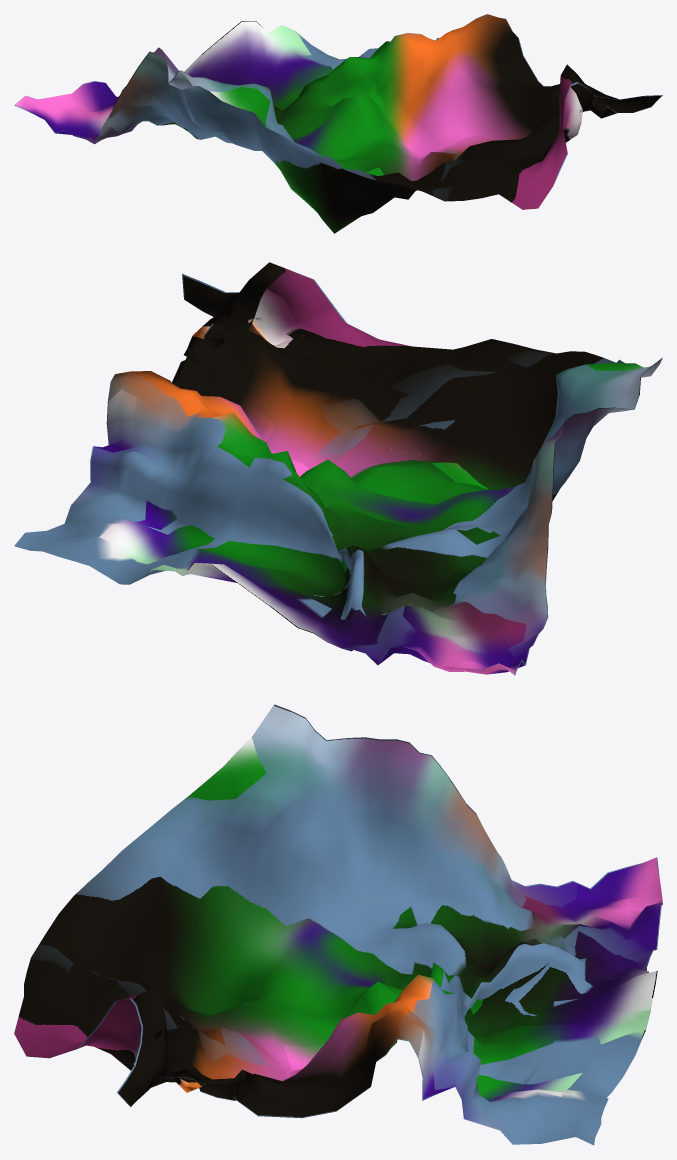
Rendered from paperTrash.fbx.
The picture shows the model from 3 angles, top to bottom: view 1: azimuth 30°, elevation 25°; view 2: azimuth 150°, elevation 25°; view 3: azimuth 270°, elevation 25°; orthographic projection. The views are drawn at different scales.
Parts seen in each view (by area): view 1: Plane; view 2: Plane; view 3: Plane.
Part boxes in pixels (x1,y1,x2,y2): Plane: (14, 14, 662, 233); Plane: (14, 262, 662, 675); Plane: (14, 704, 662, 1145).
Size of the model in its own units: 225 by 80.57 by 207.
